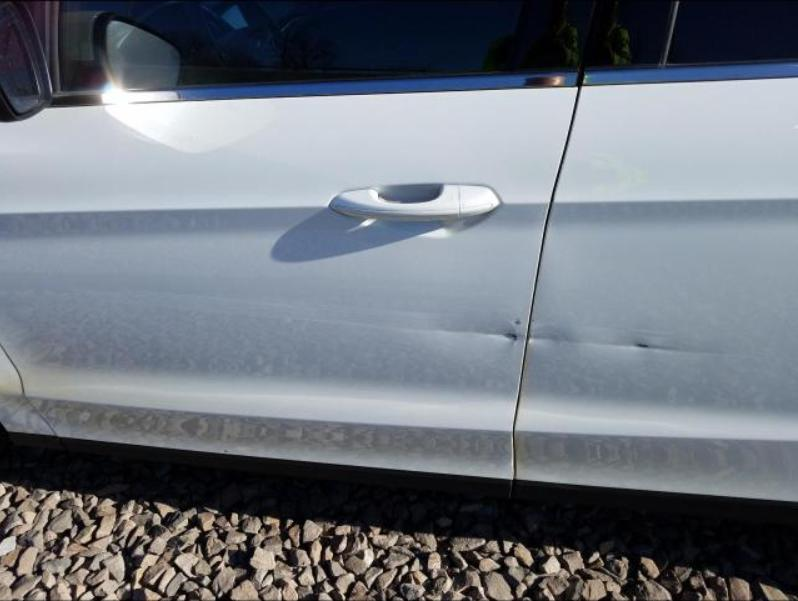Back-door: (514, 0, 798, 502)
Back-window: (666, 0, 796, 67)
Fender: (0, 348, 56, 436)
Front-door: (0, 0, 597, 480)
Front-window: (56, 0, 595, 96)
Mirror: (0, 1, 52, 117)
